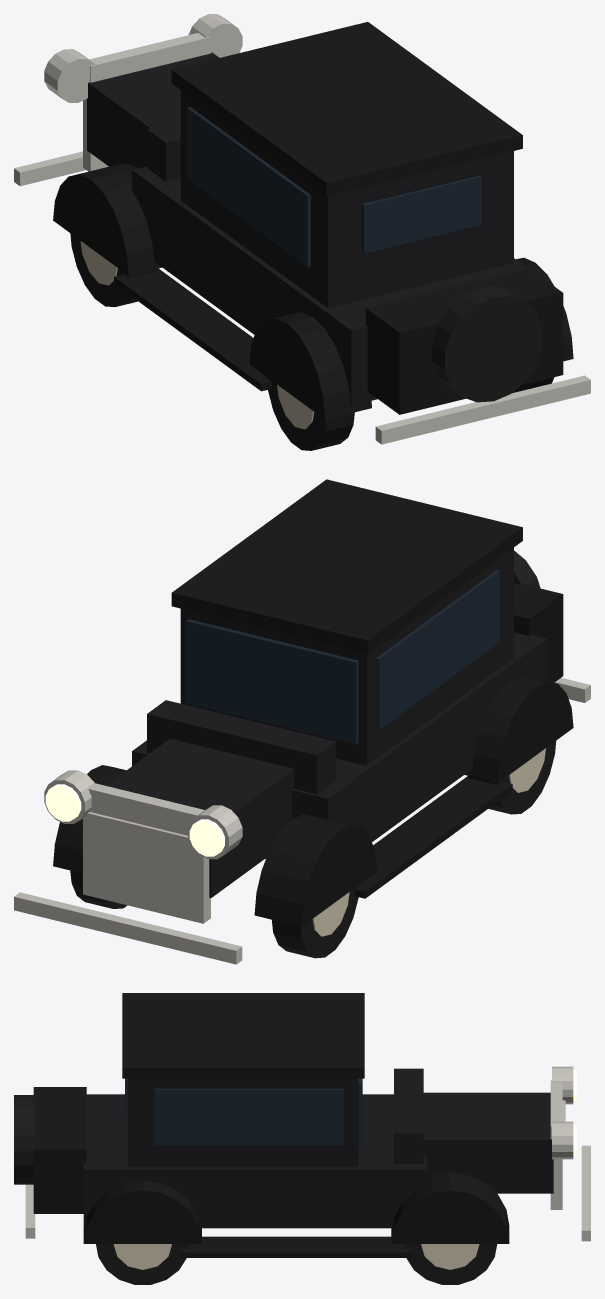
The model's file is car_sedan_black.glb.
3 renders of one model, top to bottom at view 1: azimuth 30°, elevation 25°; view 2: azimuth 150°, elevation 25°; view 3: azimuth 270°, elevation 25°, orthographic. The views are drawn at different scales.
Visible parts, largest first — view 1: lower; view 2: lower; view 3: lower.
Boxes of the visible parts, <box> form: lower: <box>14,14,590,450</box>; lower: <box>14,479,590,964</box>; lower: <box>14,993,590,1284</box>.
Bounding box in the file's own units: 1.92 × 1.96 × 4.88.
